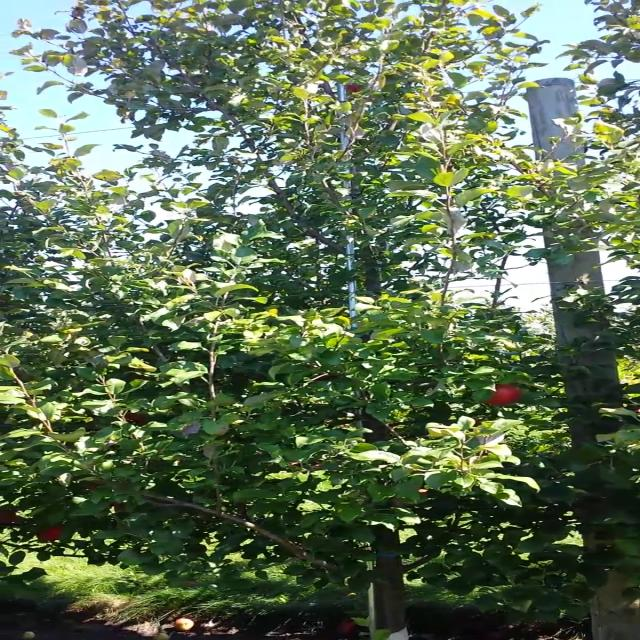apple: (485, 384, 519, 406), (36, 525, 62, 539), (0, 509, 21, 522), (124, 412, 146, 423), (344, 82, 365, 93)
